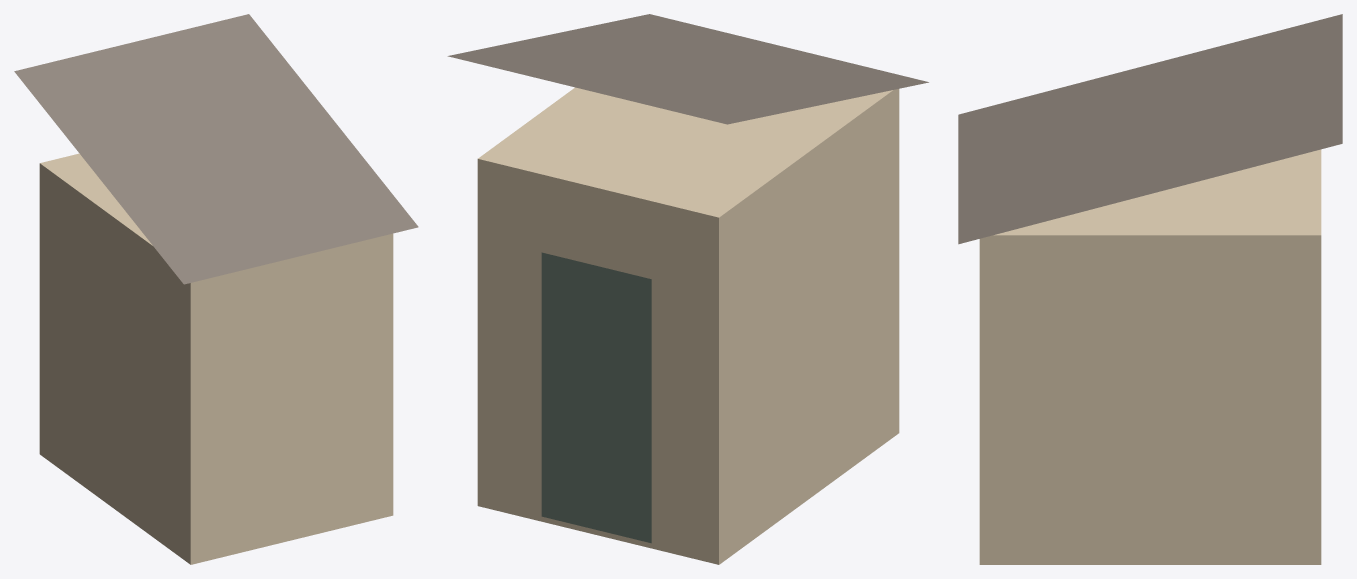
Rendered from recon_1835_south_a3_045__recommended_1835.glb.
3 renders of one model, left to right at view 1: azimuth 30°, elevation 25°; view 2: azimuth 150°, elevation 25°; view 3: azimuth 270°, elevation 25°, orthographic. The views are drawn at different scales.
Visible parts, largest first — view 1: recon_1835_south_a3_045__recommended_1835; view 2: recon_1835_south_a3_045__recommended_1835; view 3: recon_1835_south_a3_045__recommended_1835.
Part boxes in pixels (box(x1,y1,x2,y2)): recon_1835_south_a3_045__recommended_1835: box(14, 14, 418, 564); recon_1835_south_a3_045__recommended_1835: box(447, 14, 928, 564); recon_1835_south_a3_045__recommended_1835: box(958, 14, 1342, 564).
Bounding box in the file's own units: 1.73 × 2.68 × 2.17.
